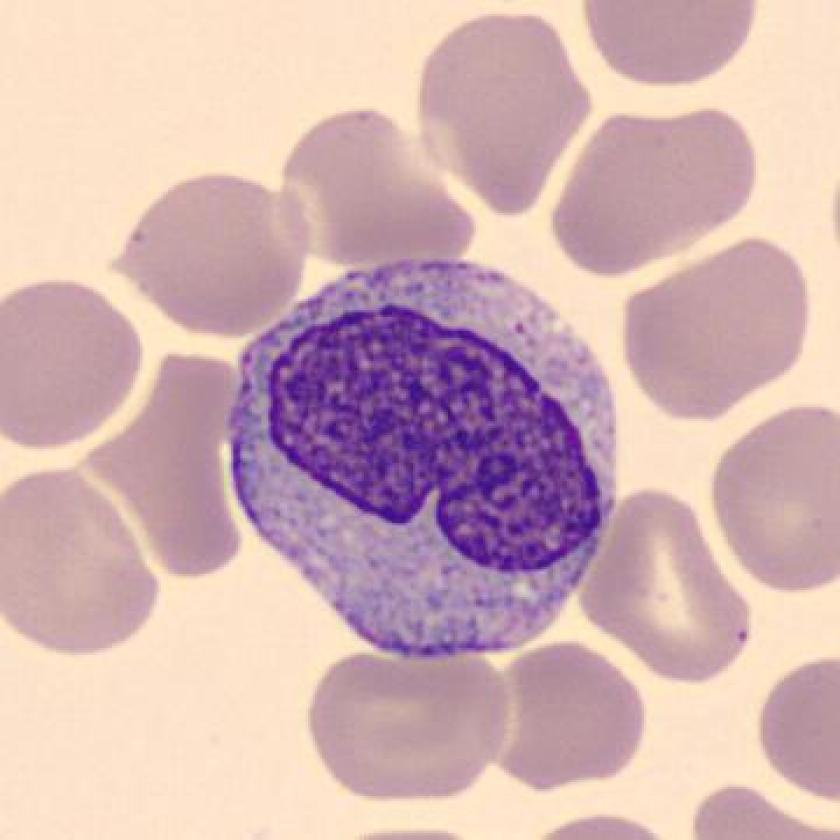monocyte: (216, 239, 636, 677)
